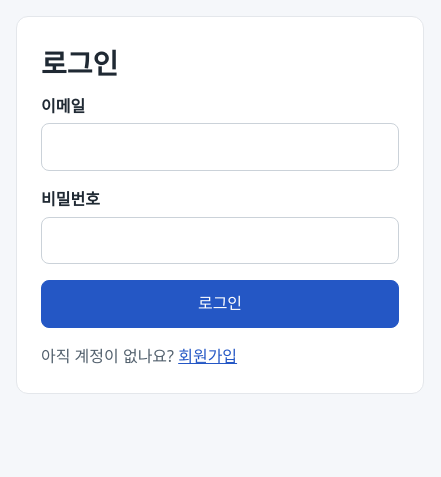
Test: 로그인 › 실패하면 이메일은 남기고 비밀번호만 지운다
The width and height of the screenshot is (441, 477).
Expected: the heading "로그인" is shown, [41,44,118,82]
Type "user1@example.com" into the field labelled "이메일" at (220,147), box [41,123,399,171]
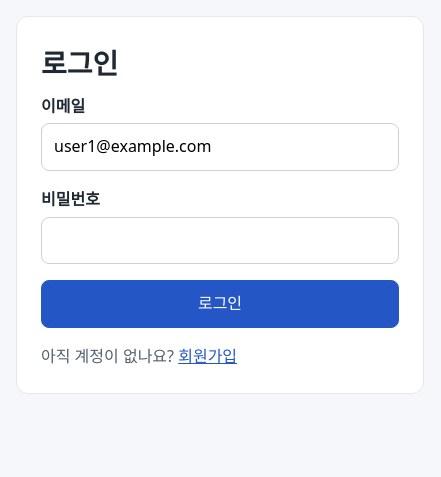
Type "wrong-password" into the password field labelled "비밀번호" at (220,240), box [41,217,399,264]
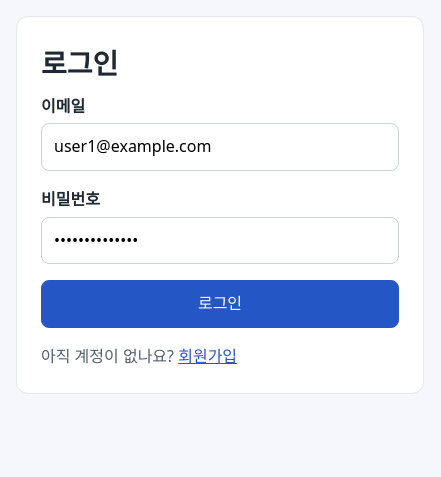
Click the button "로그인" at (220,304), box [41,280,399,328]
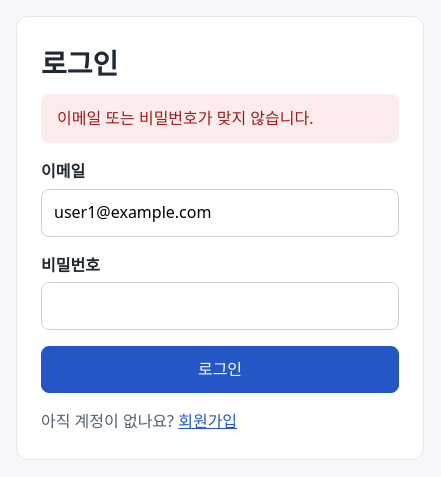
Expected: the text "이메일 또는 비밀번호가 맞지 않습니다." is shown, [41,94,399,143]
Expected: the password field labelled "비밀번호" is empty, [41,282,399,330]
